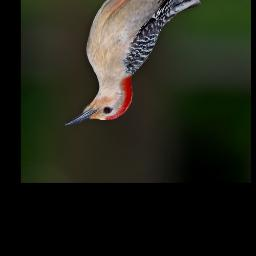Woodpecker: (61, 0, 241, 129)
